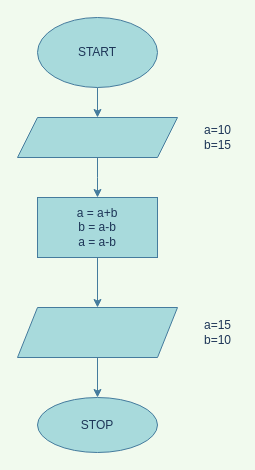
Image size: 255x470. Some labels were removed from this diagram. The centre of each missing label's shape, as x and y in pixels:
"print a and b" goes at point (97, 332).
"READ a and b" goes at point (97, 137).
